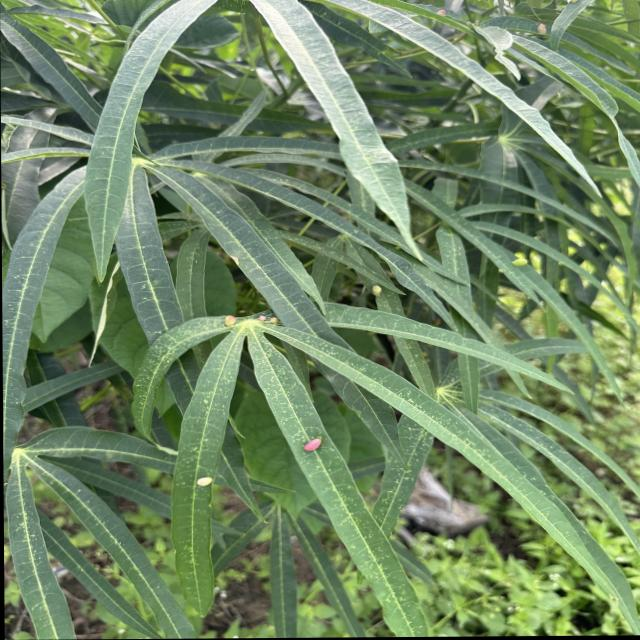Mosca: (297, 432, 333, 456), (365, 275, 391, 301), (190, 470, 219, 493), (255, 305, 279, 332), (217, 305, 238, 333)
